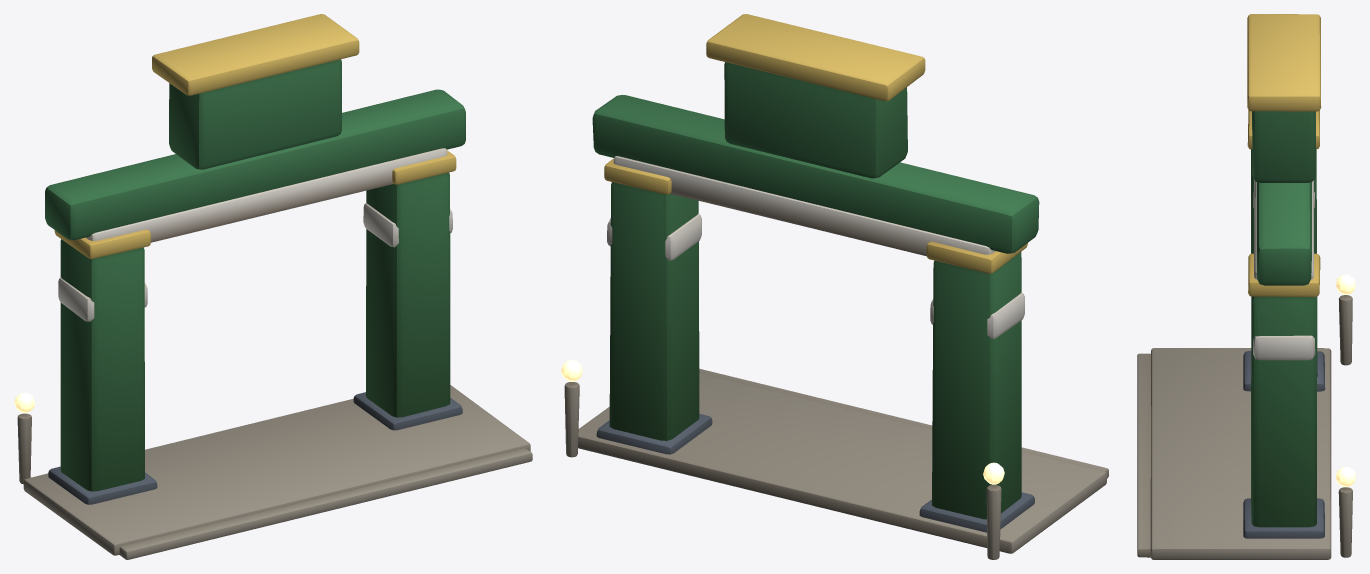
3 renders of one model, left to right at view 1: azimuth 30°, elevation 25°; view 2: azimuth 150°, elevation 25°; view 3: azimuth 270°, elevation 25°, orthographic. The views are drawn at different scales.
Parts seen in each view (by area): view 1: gate_c8e6a4ca; view 2: gate_c8e6a4ca; view 3: gate_c8e6a4ca.
Part boxes in pixels (x1,y1,x2,y2): gate_c8e6a4ca: [14, 14, 532, 559]; gate_c8e6a4ca: [561, 14, 1108, 559]; gate_c8e6a4ca: [1137, 14, 1355, 559].
Bounding box in the file's own units: 5.55 × 5.22 × 2.54.
